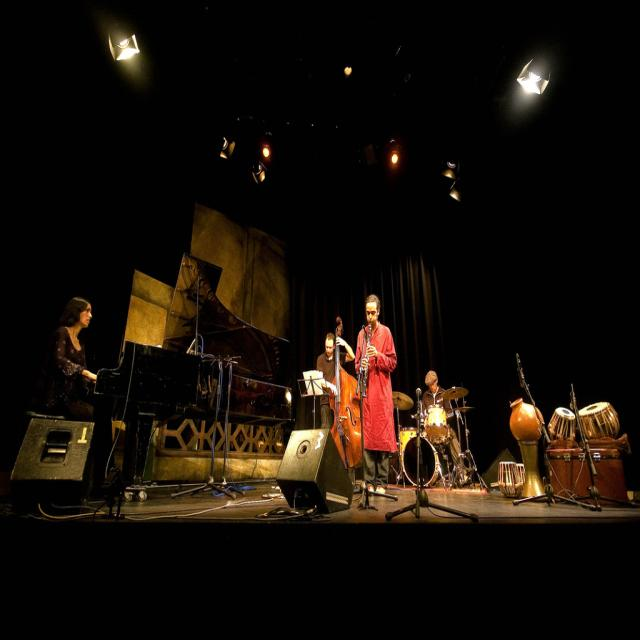clarinet: (360, 324, 374, 398)
drums: (387, 386, 482, 493)
